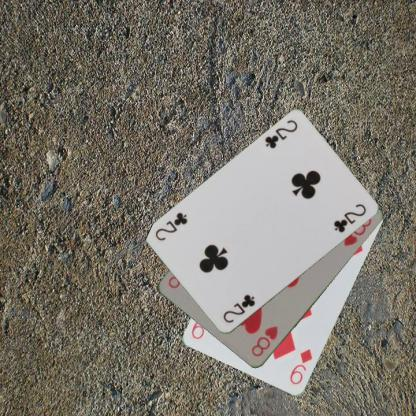2c: (220, 292, 257, 324), (262, 118, 299, 150)
8h: (249, 323, 279, 358)
9d: (287, 346, 314, 387)
